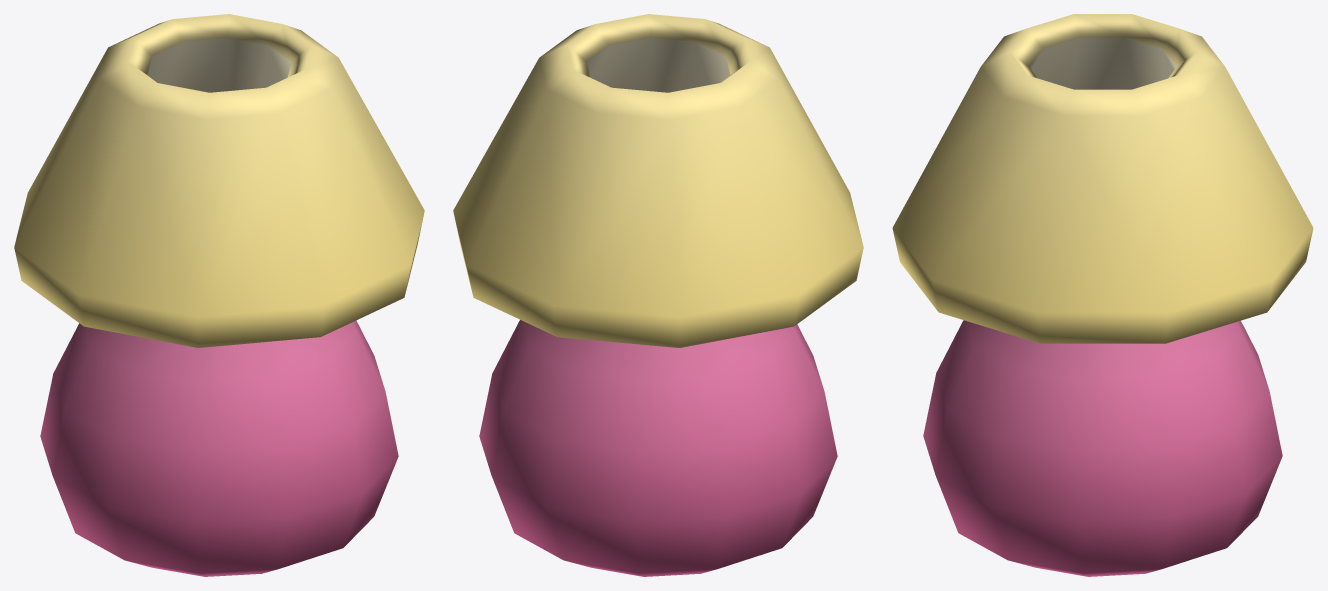
File: Furniture_Lamp_01.fbx
The picture shows the model from 3 angles, left to right: view 1: azimuth 30°, elevation 25°; view 2: azimuth 150°, elevation 25°; view 3: azimuth 270°, elevation 25°; orthographic projection.
Parts seen in each view (by area): view 1: Furniture_Lamp_01; view 2: Furniture_Lamp_01; view 3: Furniture_Lamp_01.
Part boxes in pixels (left/top/right/bottom): Furniture_Lamp_01: left=14, top=14, right=424, bottom=576; Furniture_Lamp_01: left=453, top=14, right=863, bottom=576; Furniture_Lamp_01: left=892, top=14, right=1313, bottom=576.
Size of the model in its own units: 69.57 by 91.75 by 73.15.
